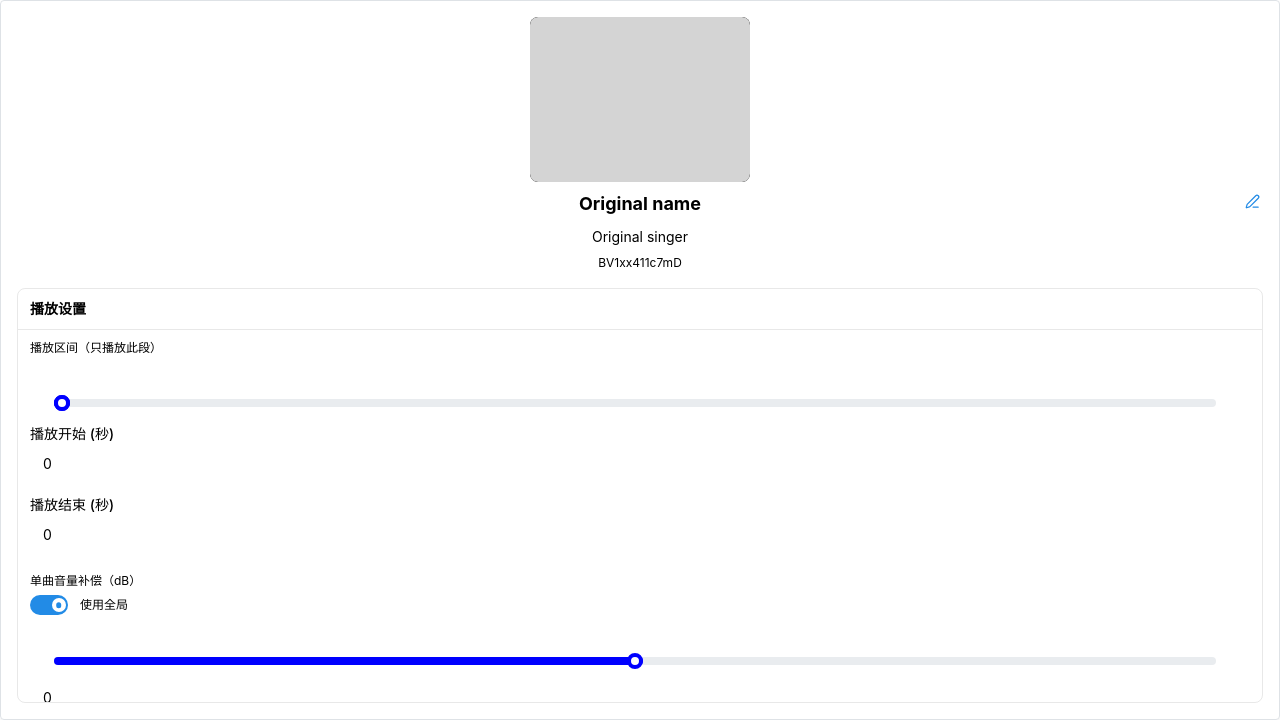
it: SongDetailCard › keeps the editor open and preserves drafts when saving fails
Click the button named "编辑歌曲信息" at (1252, 201), box [1241, 190, 1263, 212]
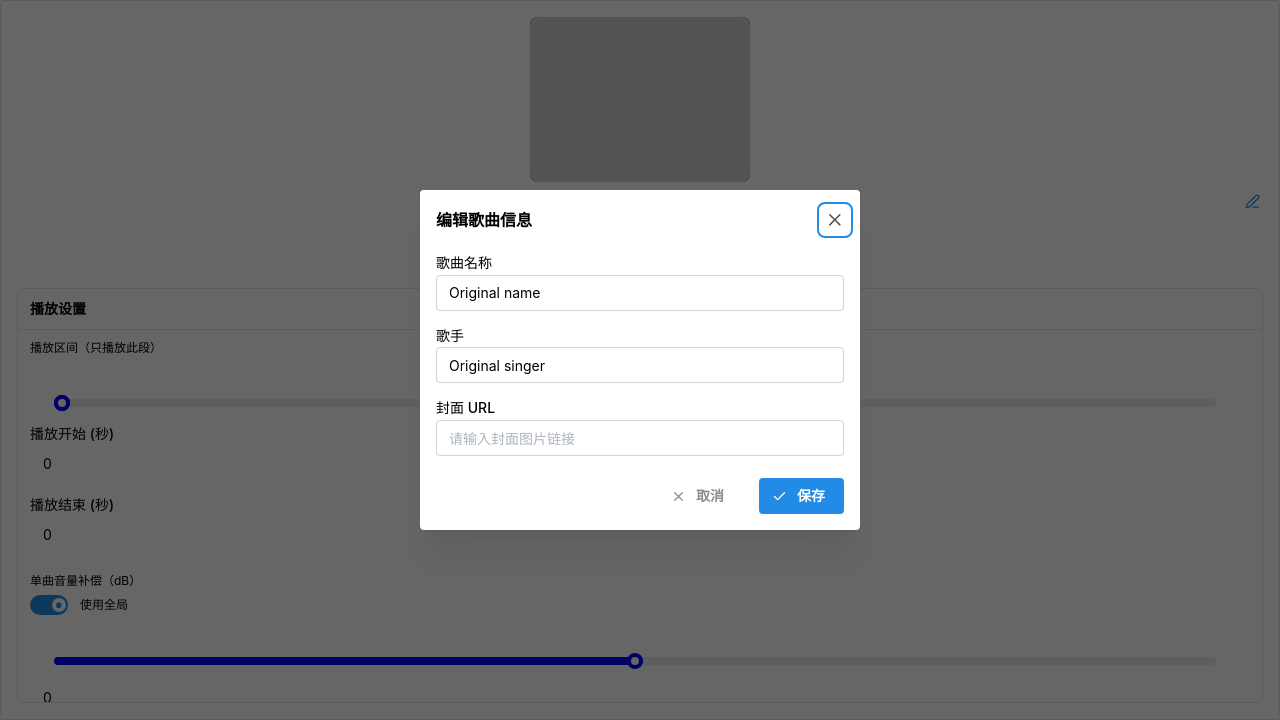
Replace the text in the field labelled "歌曲名称" with "Draft name" at (640, 293), box [436, 275, 844, 311]
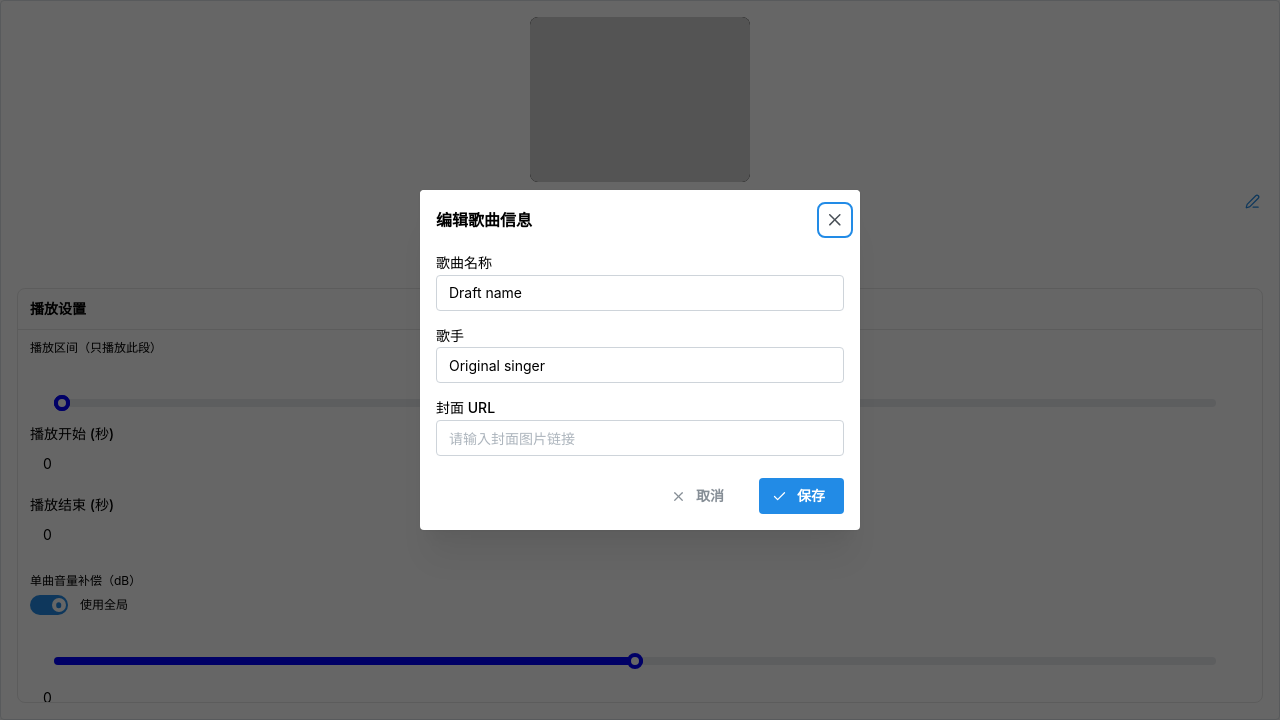
Replace the text in the field labelled "歌手" with "Draft singer" at (640, 365), box [436, 347, 844, 383]
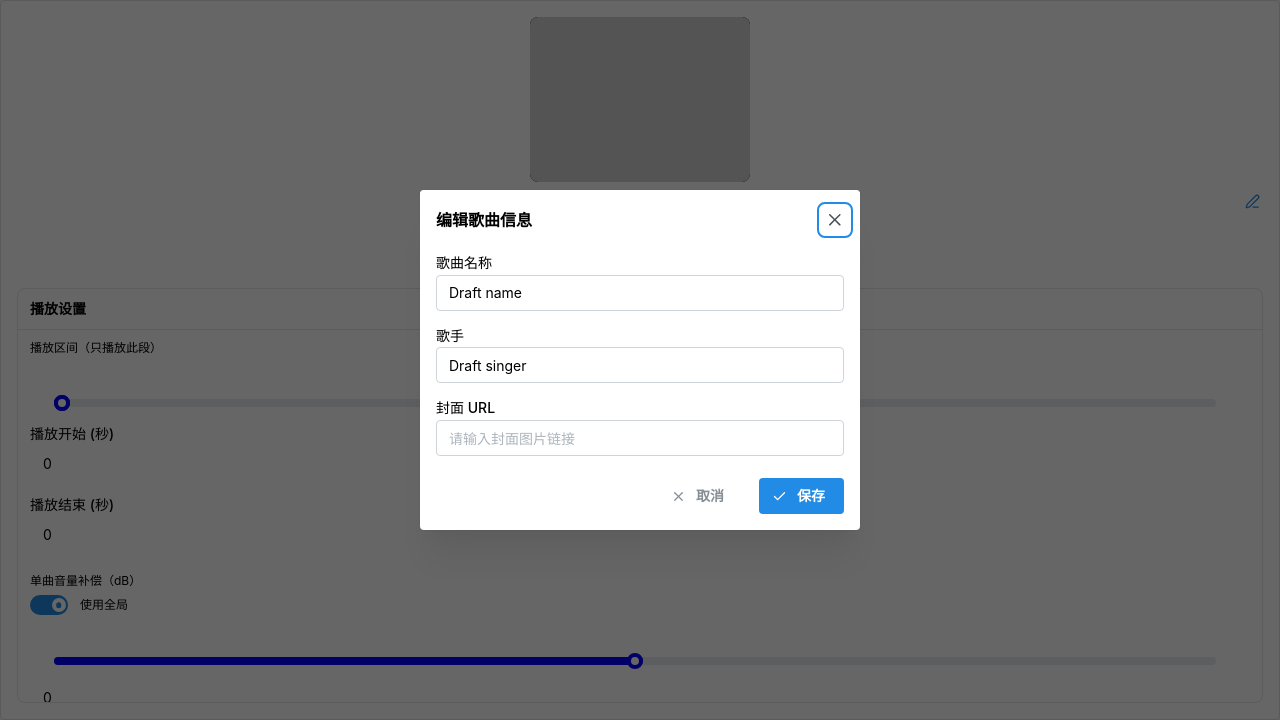
Click the button "保存" at (802, 496), box [759, 478, 844, 514]
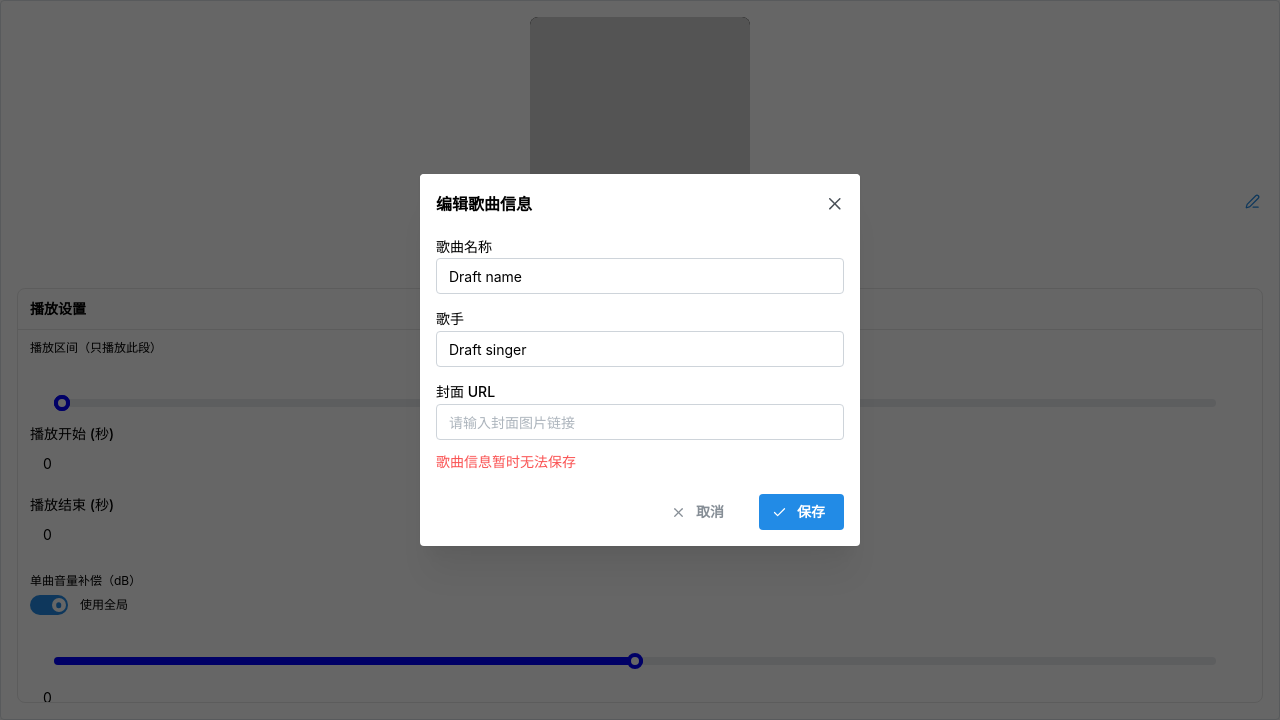
Result: the button "保存" is enabled at [759, 494, 844, 530]
Result: the message reads "歌曲信息暂时无法保存" at [436, 453, 576, 470]
